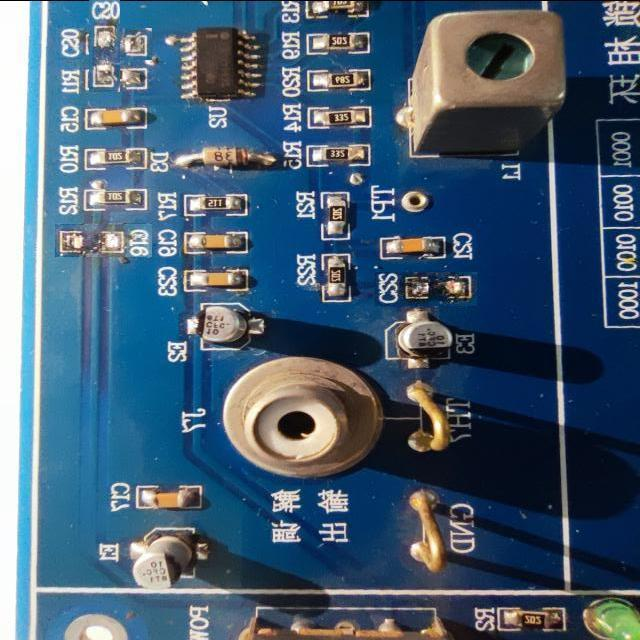miss_welding: (72, 12, 136, 76), (375, 272, 477, 306), (54, 224, 152, 258)
